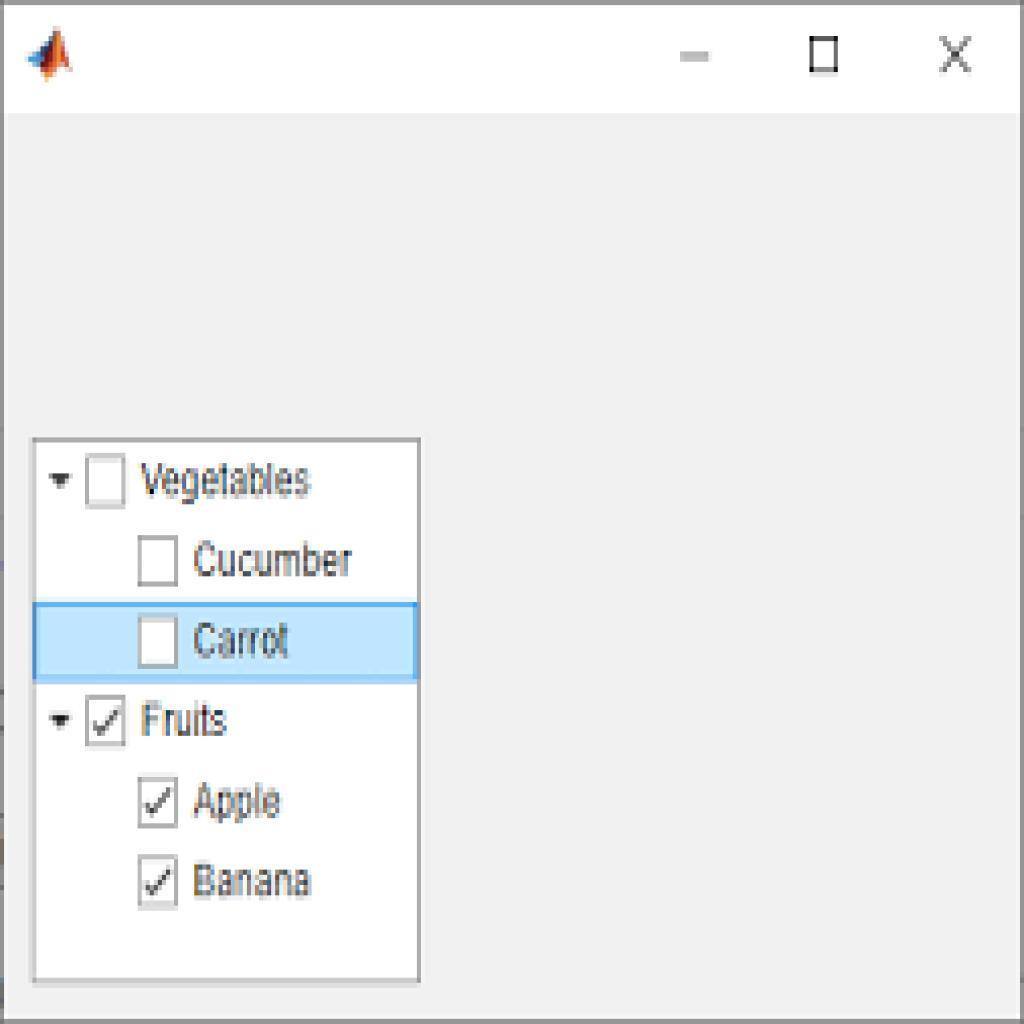checkbox: (137, 855, 179, 907), (86, 456, 127, 508), (88, 693, 126, 746), (140, 777, 177, 828), (140, 538, 180, 582), (141, 617, 175, 668)
